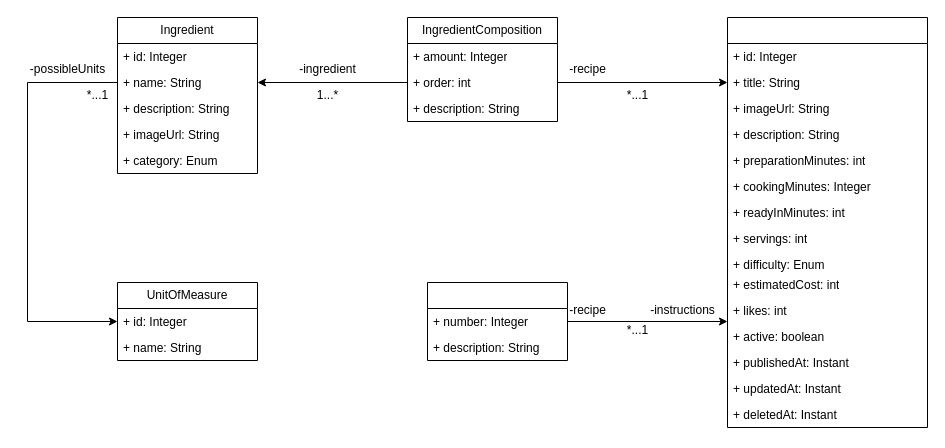
Image size: 945x448. Some labels were removed from this diagram. The shapes that lost their labels are listed below. From the top down, each one's box as (x1, y1, x2, y2) in pixels, then its label:
(726, 16, 928, 428): Recipe
(426, 282, 568, 360): Instruction
